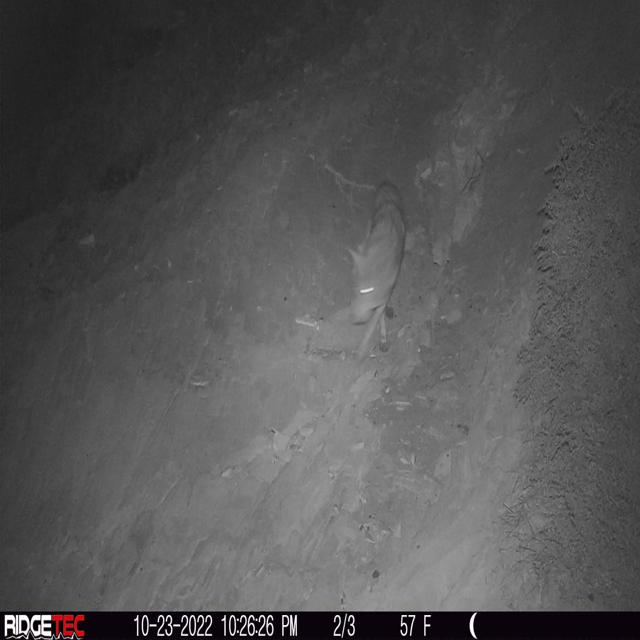coyote: (342, 173, 406, 364)
